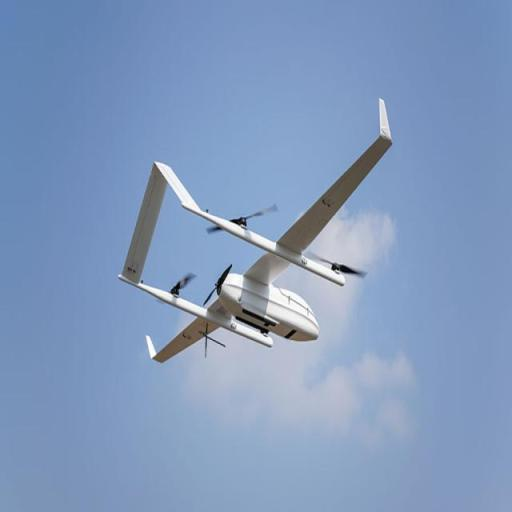uav: (114, 95, 406, 377)
